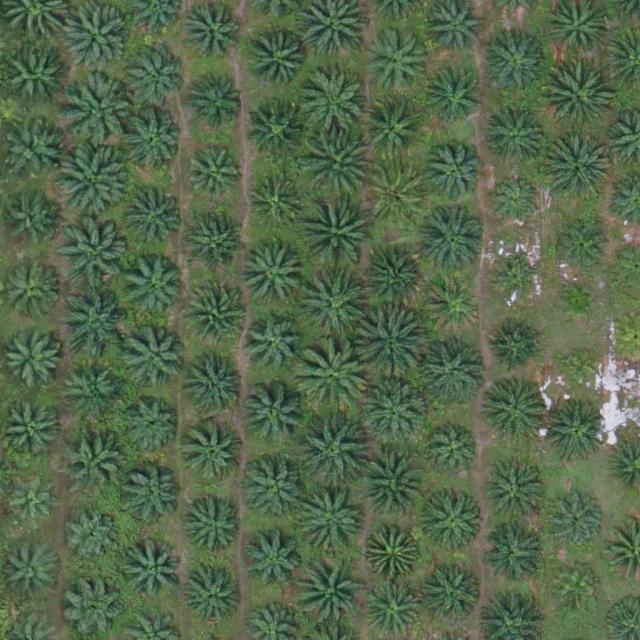Healthy: (296, 271, 367, 342), (59, 2, 130, 73), (299, 488, 370, 558), (299, 415, 369, 486), (297, 342, 367, 413), (362, 376, 432, 447), (418, 335, 488, 406), (542, 63, 613, 133), (417, 204, 487, 275), (303, 193, 373, 264), (302, 129, 372, 200), (298, 71, 368, 142), (57, 146, 127, 217), (57, 288, 127, 358), (296, 553, 366, 623), (354, 310, 424, 380), (357, 448, 427, 518), (542, 133, 612, 203), (61, 219, 131, 289), (65, 74, 135, 144), (62, 576, 125, 639), (119, 464, 182, 527), (125, 538, 188, 601), (240, 245, 303, 308), (244, 314, 307, 377), (422, 564, 485, 627), (485, 464, 548, 527), (484, 521, 547, 584), (542, 401, 605, 464), (484, 104, 547, 167), (364, 28, 427, 91), (362, 96, 425, 159), (120, 186, 183, 249), (2, 326, 64, 389), (61, 358, 123, 421), (63, 428, 125, 491), (122, 254, 184, 317), (182, 565, 244, 628), (184, 494, 246, 557), (183, 422, 245, 485), (184, 282, 246, 345), (243, 383, 305, 446), (242, 456, 305, 518), (240, 530, 302, 593), (422, 487, 484, 550), (483, 34, 545, 97), (423, 141, 485, 204), (366, 164, 428, 227), (248, 99, 310, 162), (185, 212, 247, 275), (187, 69, 250, 131), (125, 46, 188, 108), (122, 108, 184, 171), (8, 49, 70, 112), (125, 329, 187, 391), (188, 351, 250, 413), (363, 248, 425, 310), (484, 378, 546, 440), (248, 28, 310, 90), (2, 474, 57, 530), (6, 541, 61, 596), (66, 510, 121, 565), (368, 581, 423, 636), (429, 424, 484, 479), (488, 318, 543, 373), (553, 220, 608, 275), (488, 175, 543, 230), (427, 70, 482, 125), (426, 2, 481, 57), (248, 174, 303, 229), (186, 150, 241, 205), (4, 192, 59, 247), (427, 278, 481, 333), (125, 398, 179, 453), (366, 523, 420, 578), (550, 491, 604, 546)
Small: (554, 277, 601, 325), (495, 259, 542, 306), (554, 562, 601, 609), (556, 345, 603, 392)
